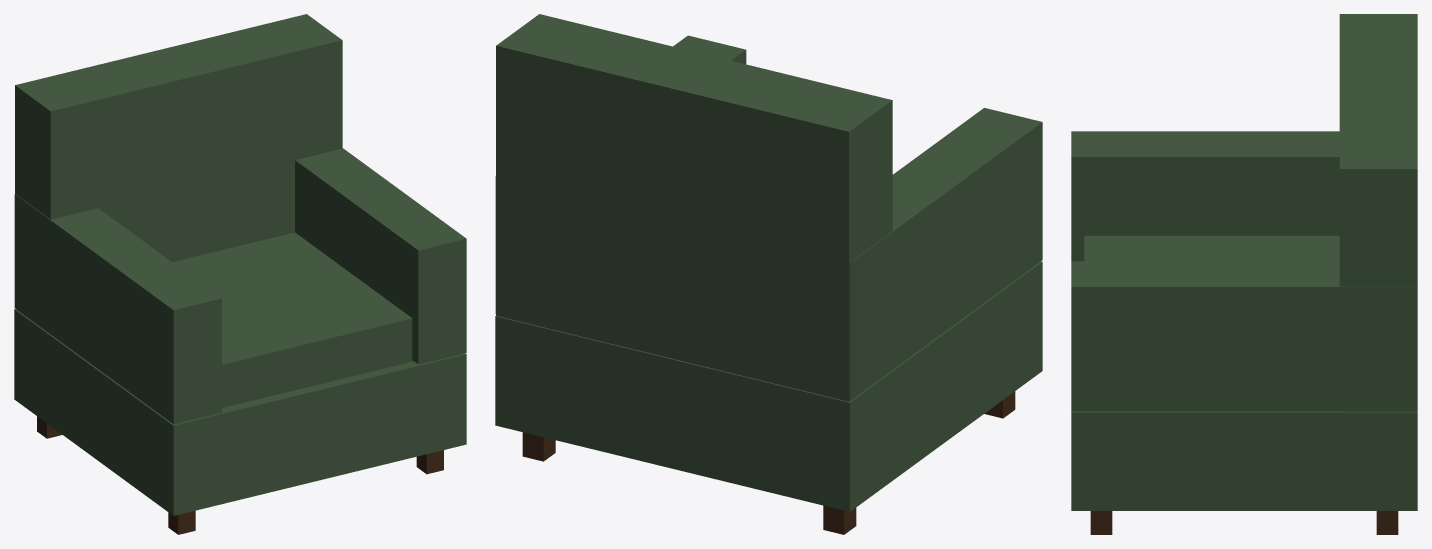
File: armchair_velvet.glb
3 views of the same model, side by side, from view 1: azimuth 30°, elevation 25°; view 2: azimuth 150°, elevation 25°; view 3: azimuth 270°, elevation 25° (orthographic). The views are drawn at different scales.
Parts seen in each view (by area): view 1: Part6, Part4, Part7, Part5, Part8, Part0; view 2: Part6, Part4, Part7, Part8, Part2, Part3; view 3: Part8, Part4, Part7, Part6, Part5, Part1, Part3.
Boxes of the visible parts, x1,y1,x2,y2 form: Part6: (15, 14, 342, 261); Part4: (14, 309, 466, 515); Part7: (14, 194, 221, 424); Part5: (172, 232, 413, 407); Part8: (295, 148, 466, 364); Part0: (168, 510, 195, 534); Part6: (496, 14, 892, 401); Part4: (495, 261, 1042, 511); Part7: (849, 108, 1042, 400); Part8: (495, 35, 746, 313); Part2: (823, 505, 856, 534); Part3: (522, 432, 555, 461); Part8: (1071, 261, 1416, 411); Part4: (1071, 411, 1417, 510); Part7: (1071, 131, 1339, 261); Part6: (1339, 14, 1417, 411); Part5: (1084, 235, 1339, 261); Part1: (1090, 511, 1112, 534); Part3: (1376, 511, 1398, 534).
Bounding box in the file's own units: 0.85 × 0.95 × 0.8.
